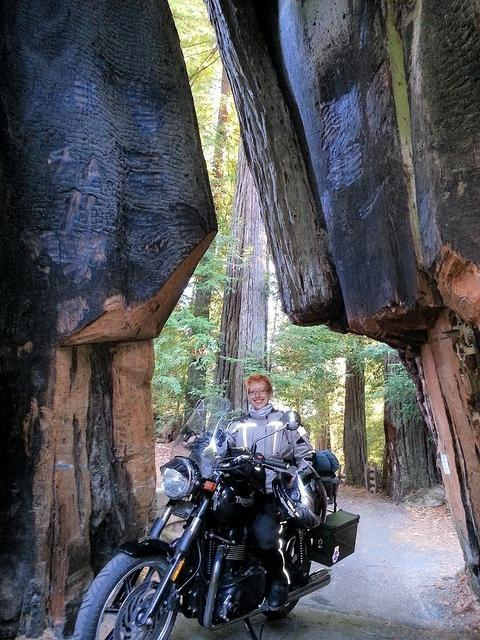motorcycle: (74, 416, 362, 632)
